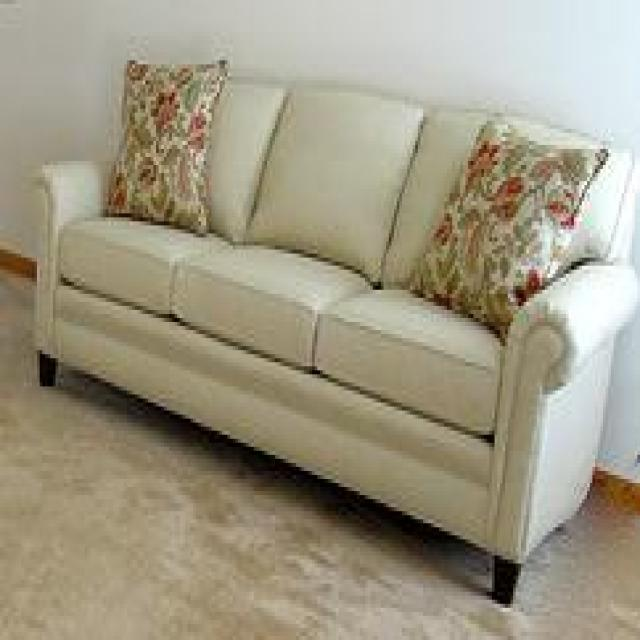sofa: (30, 53, 636, 608)
